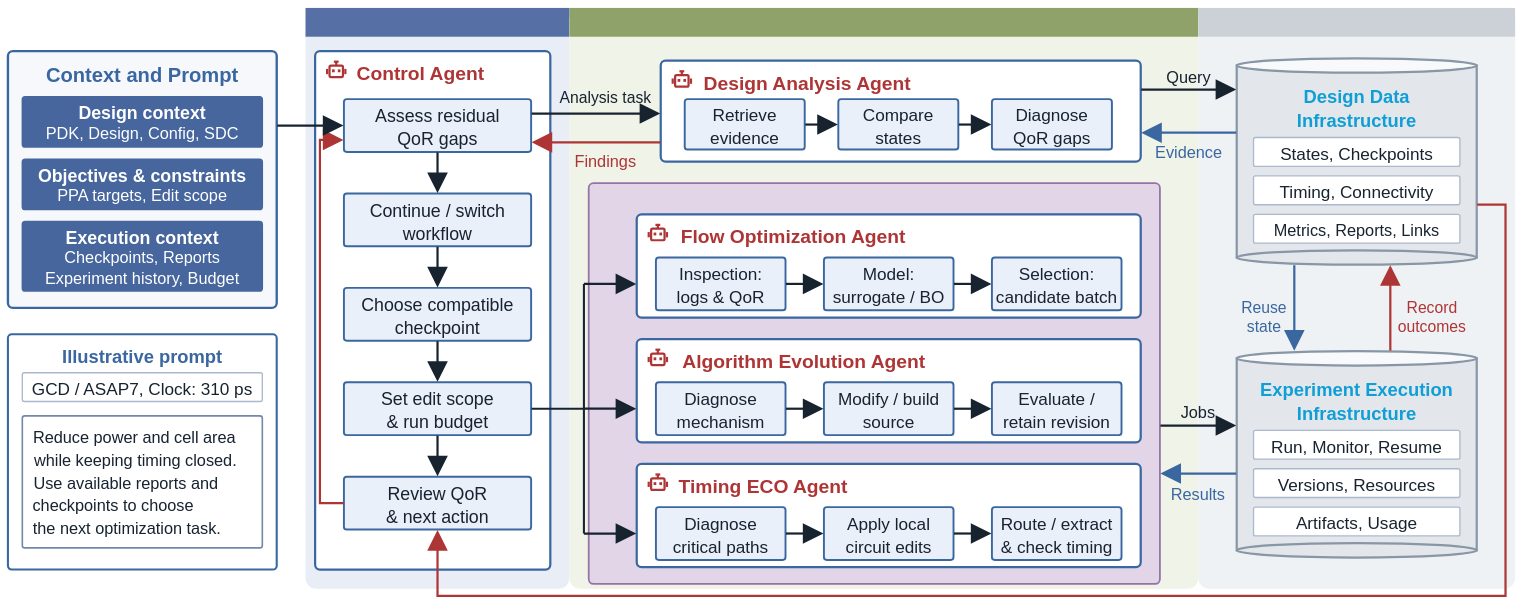
Some shapes in this 1523 by 604 pixel diagram are drawn without their labels. The centre of each missing label's shape, as x and y in pixels:
Coordination: (437,22)
Shared infrastructure: (1356,22)
Specialized workflows: (883,22)
